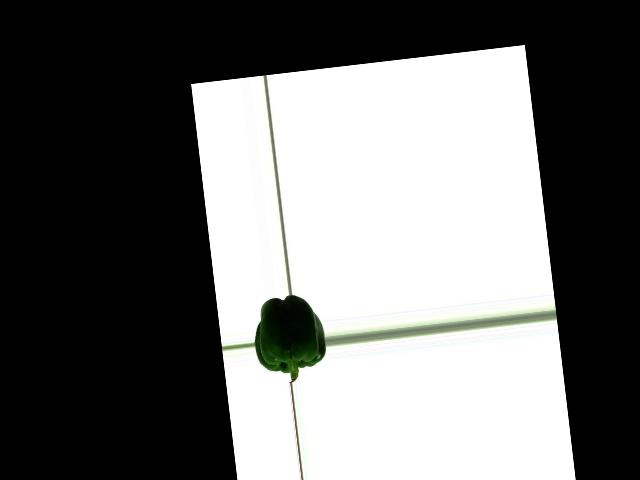bell_pepper: (250, 291, 327, 384)
